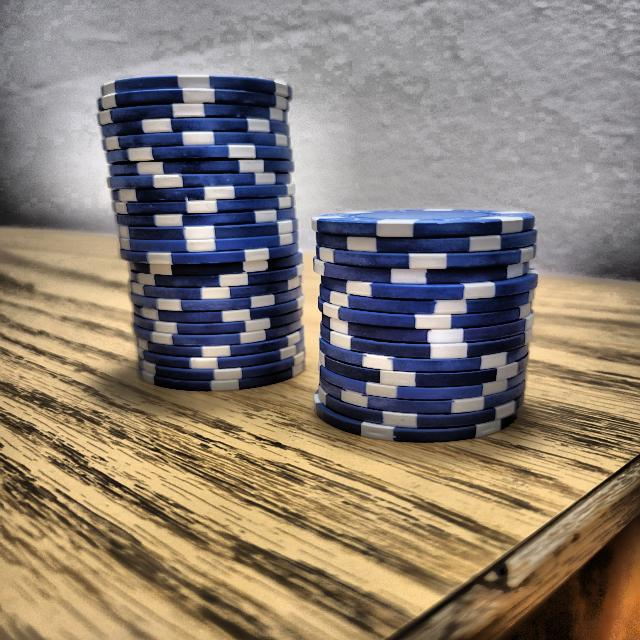Chip: (88, 62, 325, 406), (306, 190, 550, 449)
